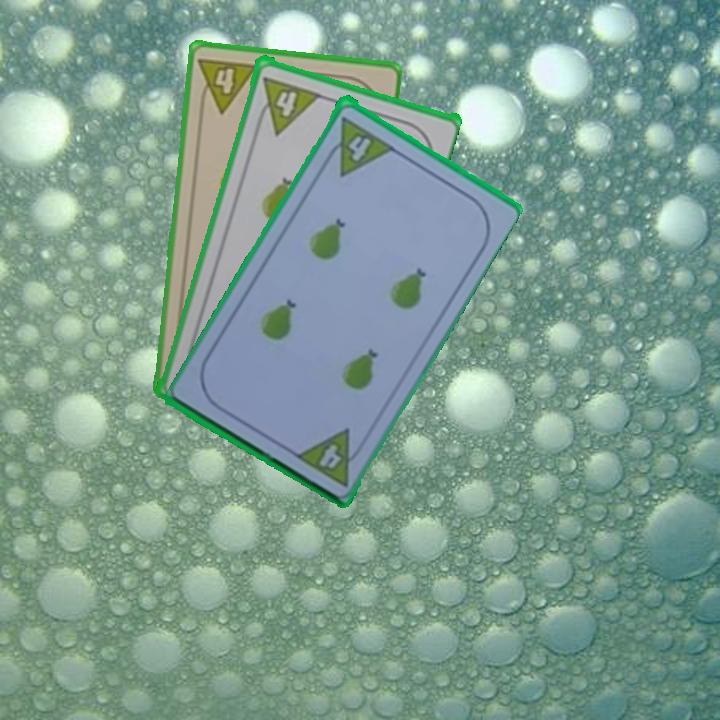4p: (319, 112, 396, 179), (292, 424, 370, 489), (252, 72, 322, 136), (195, 54, 260, 116)
